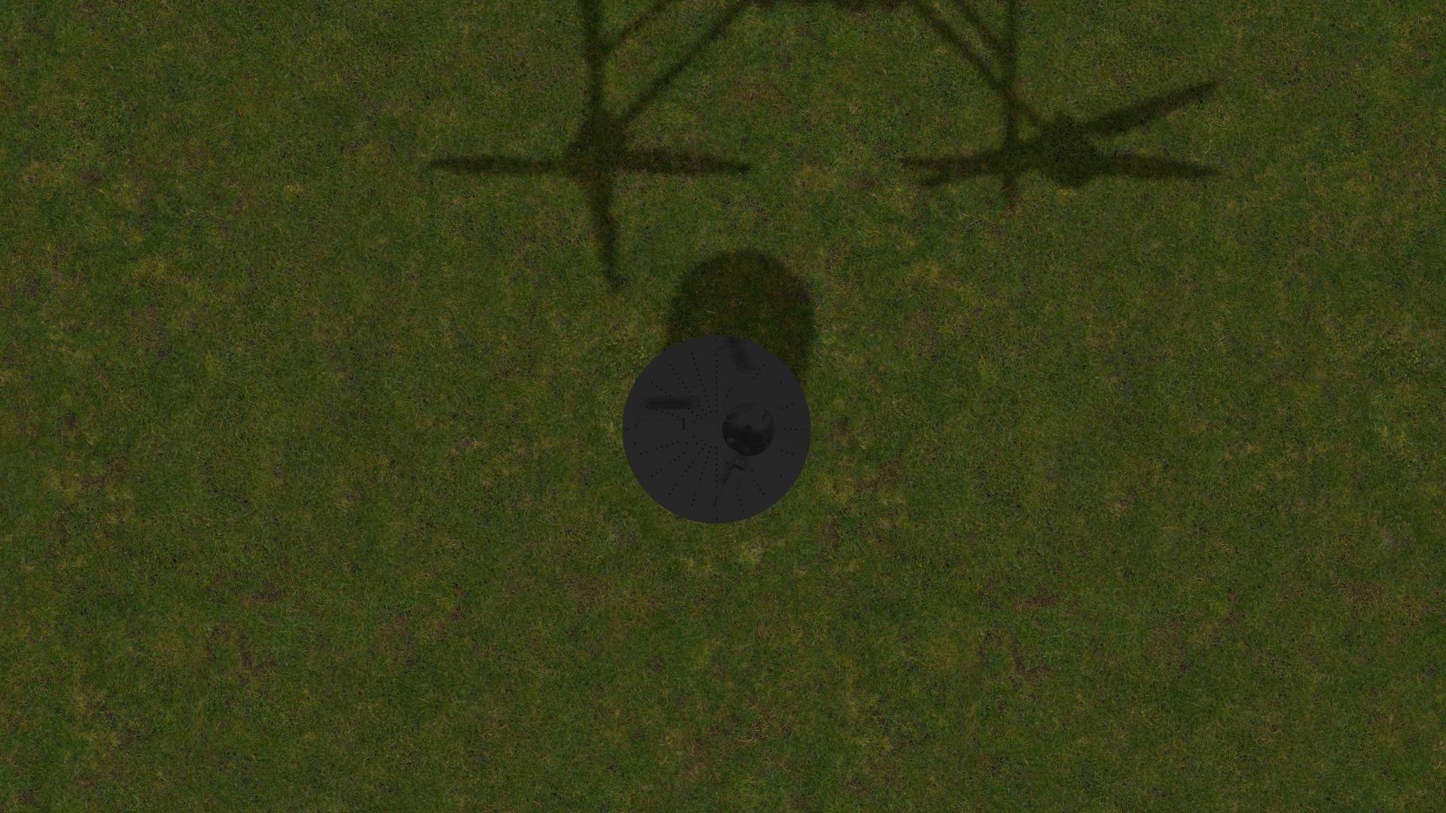alca: (710, 458, 746, 516), (713, 342, 747, 399), (632, 418, 691, 432)
armadilha: (622, 334, 811, 524)
